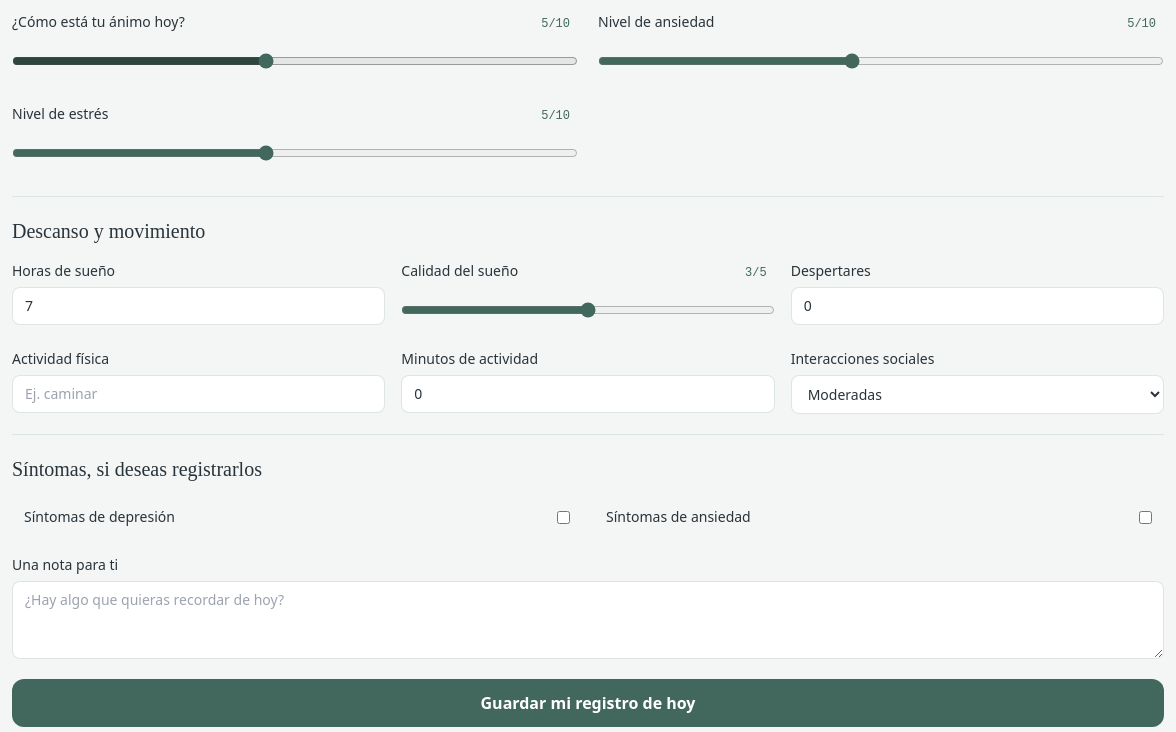
Scenario: DailyLogForm › shows an error message and does not report a log when saving fails
The width and height of the screenshot is (1176, 732).
Click the button "Guardar mi registro de hoy": click(588, 703) [12,679,1164,727]
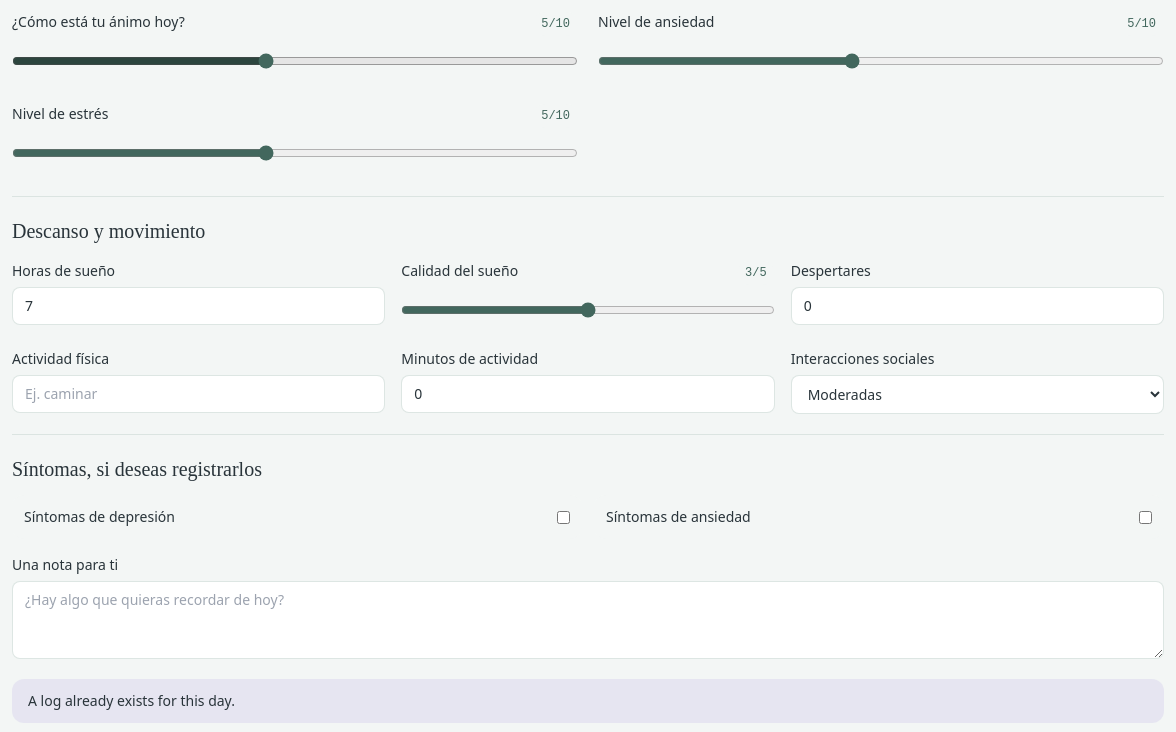
Check: the message reads "A log already exists for this day.", box [28,691,235,710]
